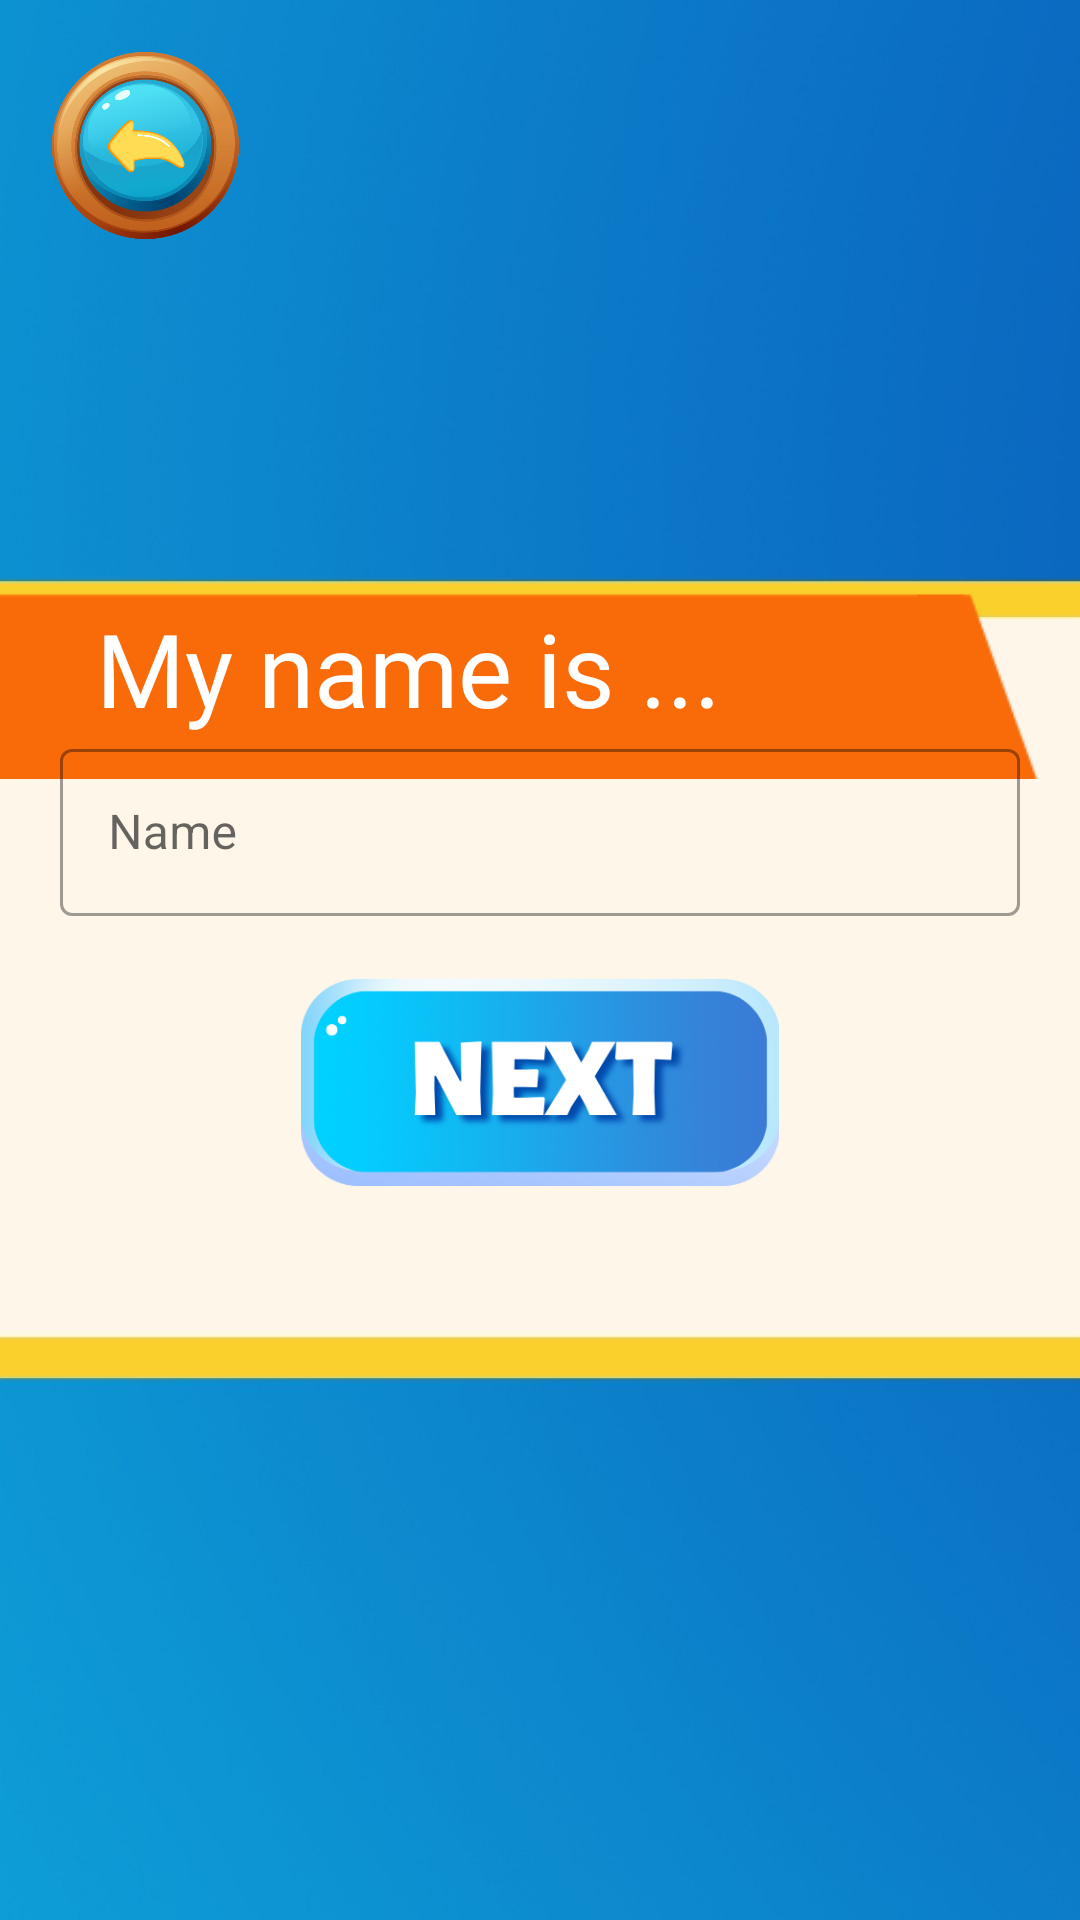

Named icons in this screenshot (1080 × 1920) and their centers, [x,y]:
back: [145,145]
